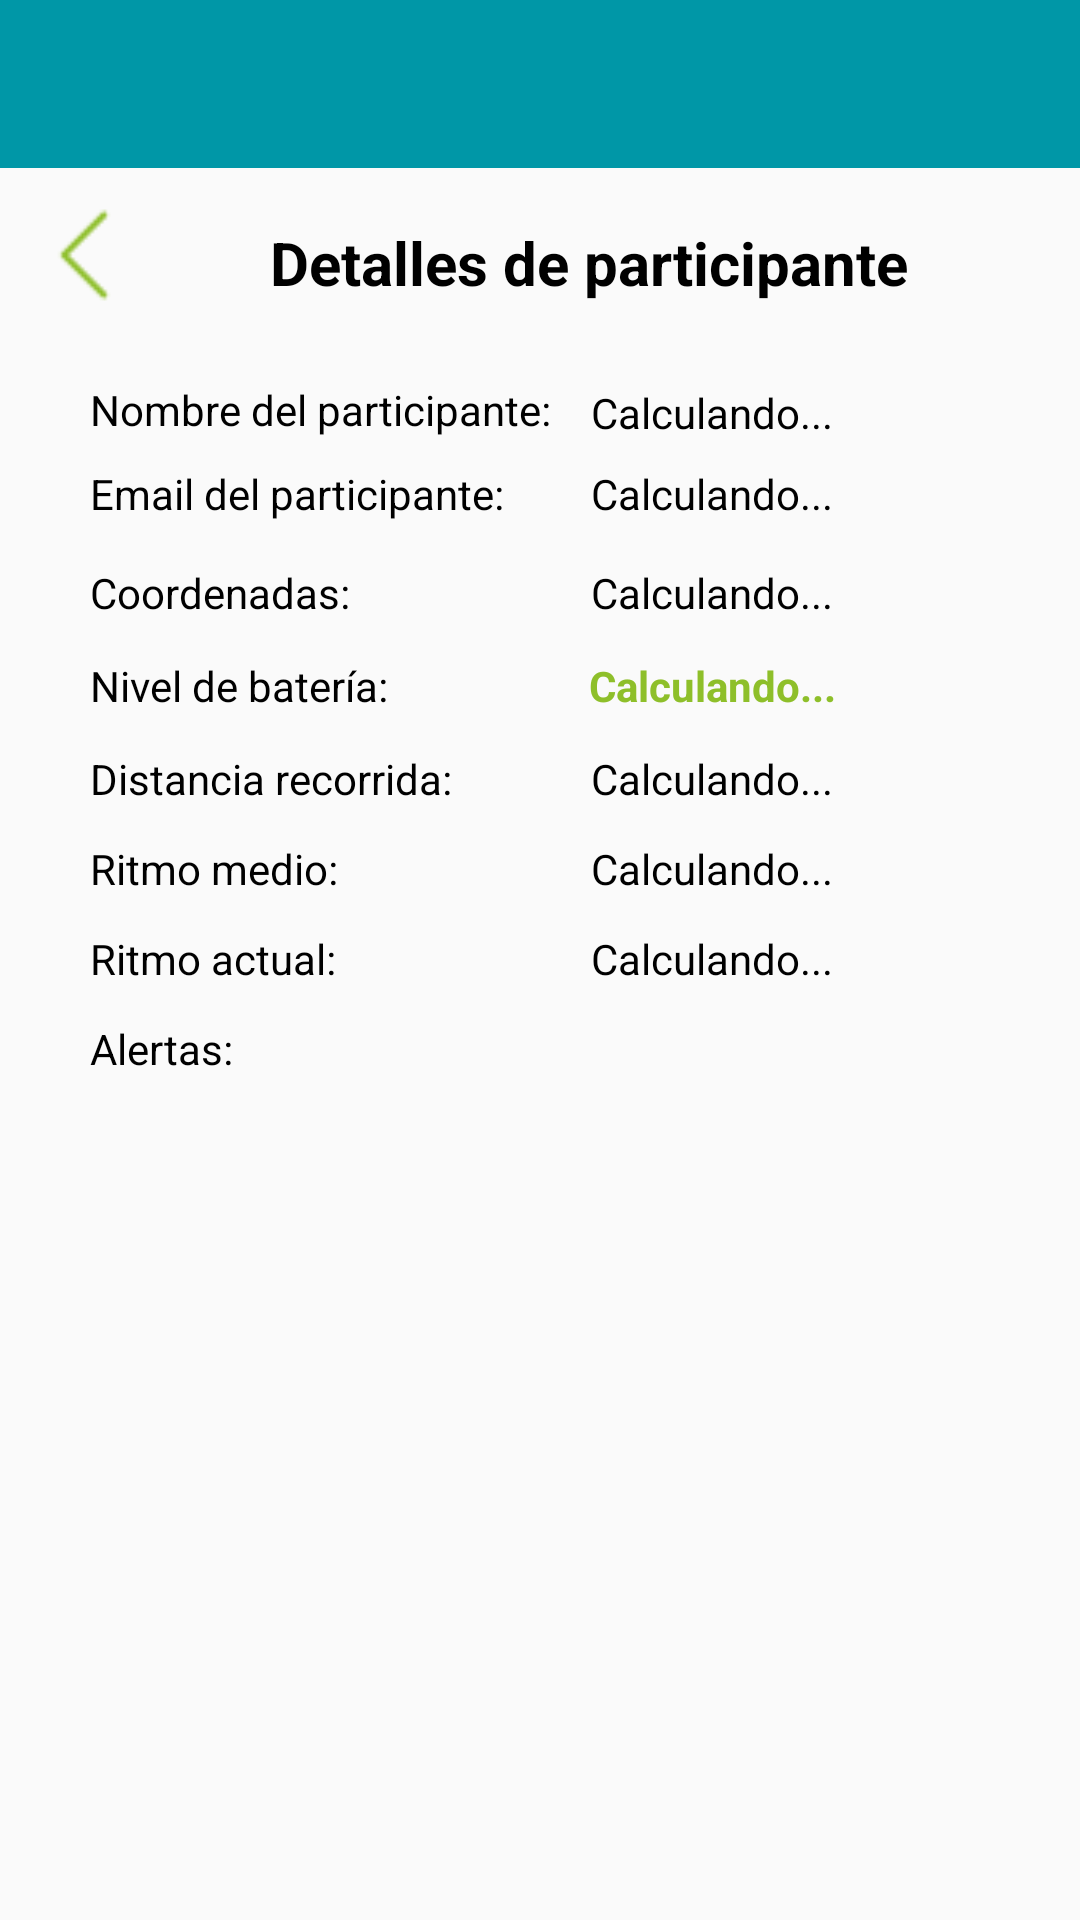

Screen size 1080*1920. Icon name, then its center in pixels as (x=x, y=y):
leftarrow: (x=84, y=255)
